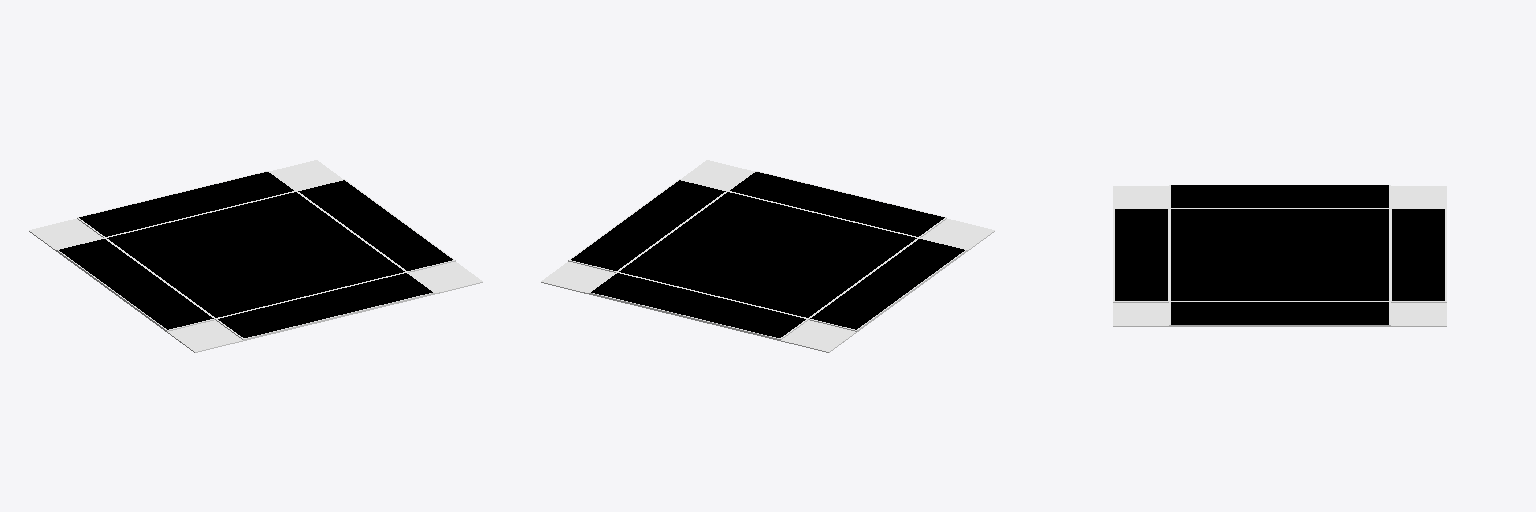
3 renders of one model, left to right at view 1: azimuth 30°, elevation 25°; view 2: azimuth 150°, elevation 25°; view 3: azimuth 270°, elevation 25°, orthographic.
Visible parts, largest first — view 1: Cube3_extract3, Cube1_extract4; view 2: Cube3_extract3, Cube1_extract4; view 3: Cube3_extract3, Cube1_extract4.
Part boxes in pixels (left/top/right/bottom): Cube3_extract3: left=56, top=171, right=455, bottom=339; Cube1_extract4: left=29, top=160, right=482, bottom=352; Cube3_extract3: left=568, top=171, right=967, bottom=339; Cube1_extract4: left=541, top=160, right=994, bottom=352; Cube3_extract3: left=1113, top=185, right=1446, bottom=325; Cube1_extract4: left=1113, top=186, right=1446, bottom=326.
Size of the model in its own units: 30 by 0.2 by 30.
Materials: 2 (1 with a texture image).